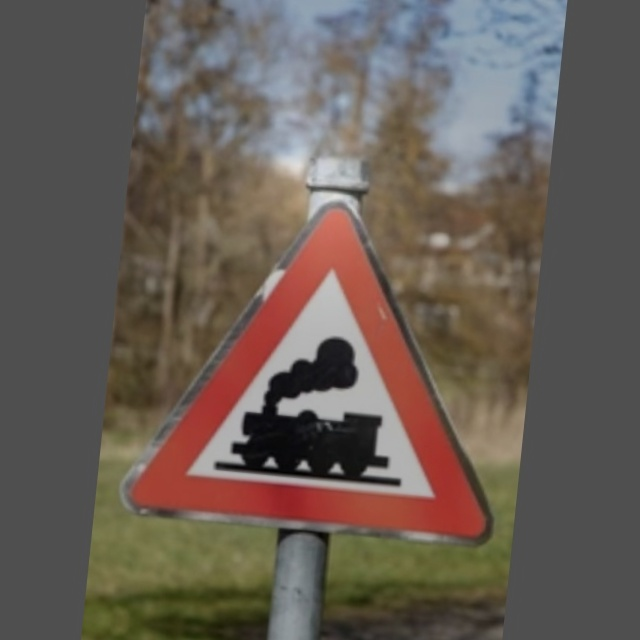Unguarded_Level_Crossing: (116, 182, 522, 549)
